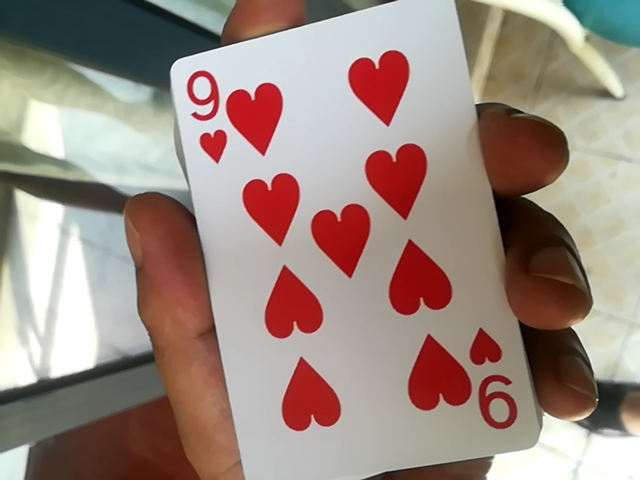hx 9: (179, 6, 549, 478)
